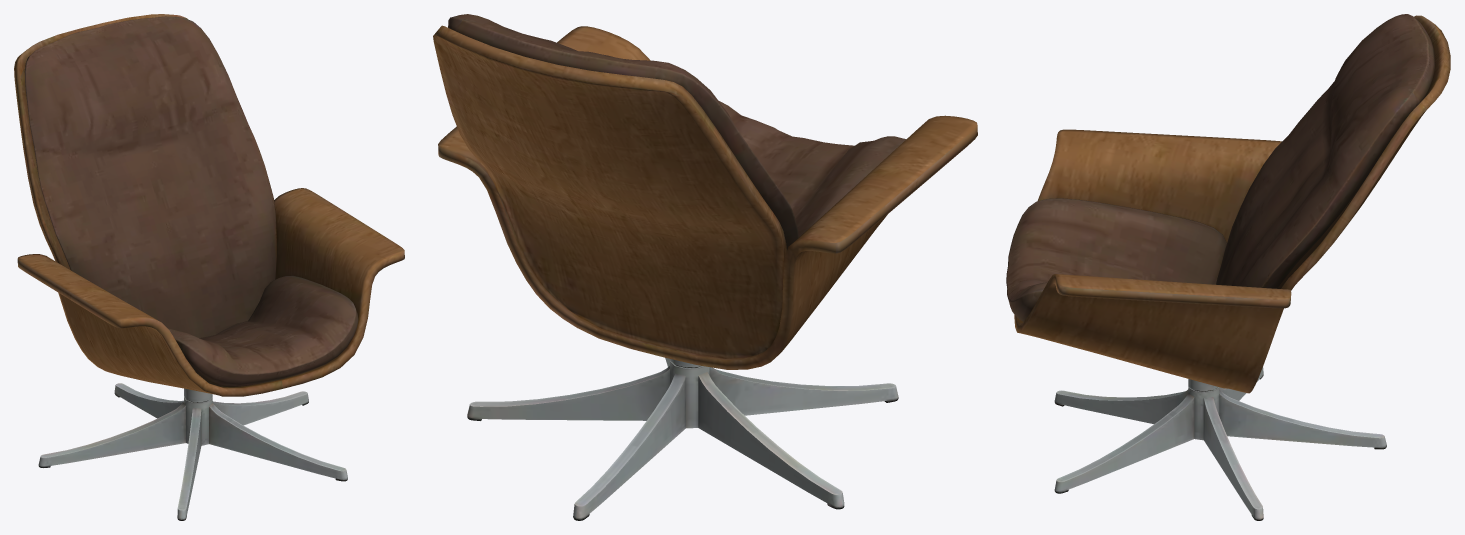
The model's file is mid_century_lounge_chair.glb.
3 views of the same model, side by side, from view 1: azimuth 30°, elevation 25°; view 2: azimuth 150°, elevation 25°; view 3: azimuth 270°, elevation 25° (orthographic). The views are drawn at different scales.
Parts seen in each view (by area): view 1: mid_century_lounge_chair; view 2: mid_century_lounge_chair; view 3: mid_century_lounge_chair.
Part boxes in pixels (<box>): mid_century_lounge_chair: <box>14,14,404,520</box>; mid_century_lounge_chair: <box>433,14,977,520</box>; mid_century_lounge_chair: <box>1006,14,1450,520</box>.
Bounding box in the file's own units: 0.8474 × 0.9822 × 1.
Materials: 1 (1 with a texture image).
